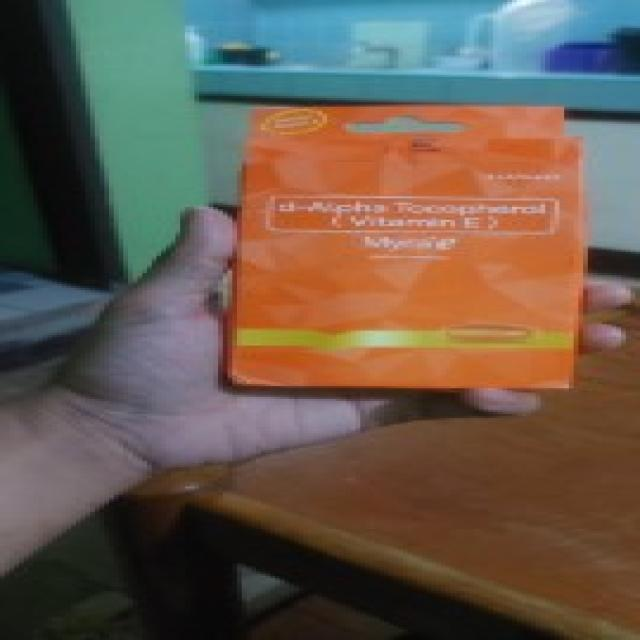Cacat: (242, 105, 571, 393)
